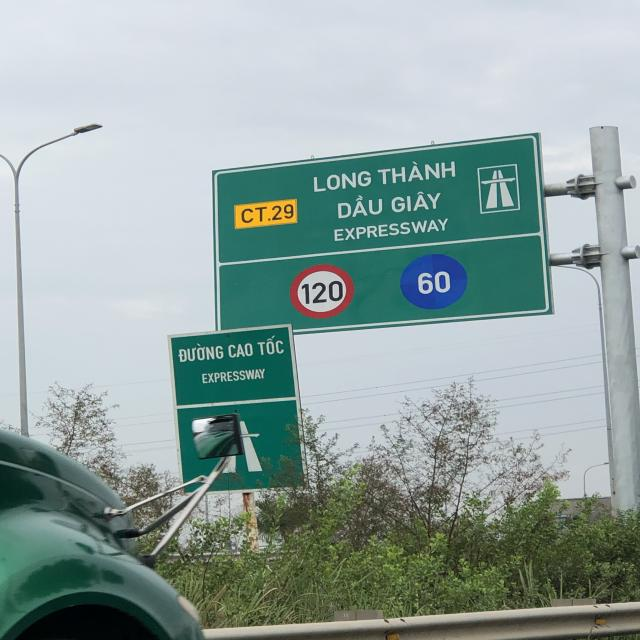Bien bao toc do toi thieu cho phep: (395, 250, 477, 313)
